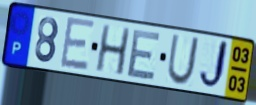8: (34, 16, 61, 65)
E: (58, 15, 96, 72), (125, 28, 163, 82)
H: (93, 24, 132, 78)
J: (197, 38, 231, 93)
U: (166, 33, 202, 87)
